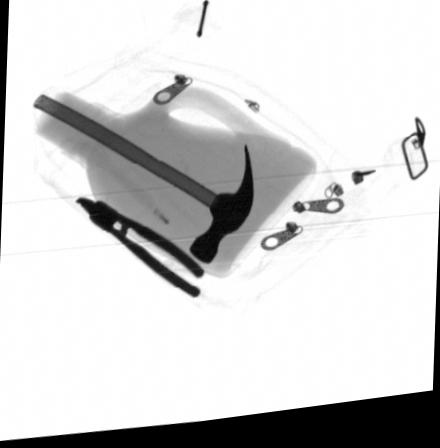Hammer: (32, 95, 254, 269)
Pliers: (75, 198, 203, 304)
